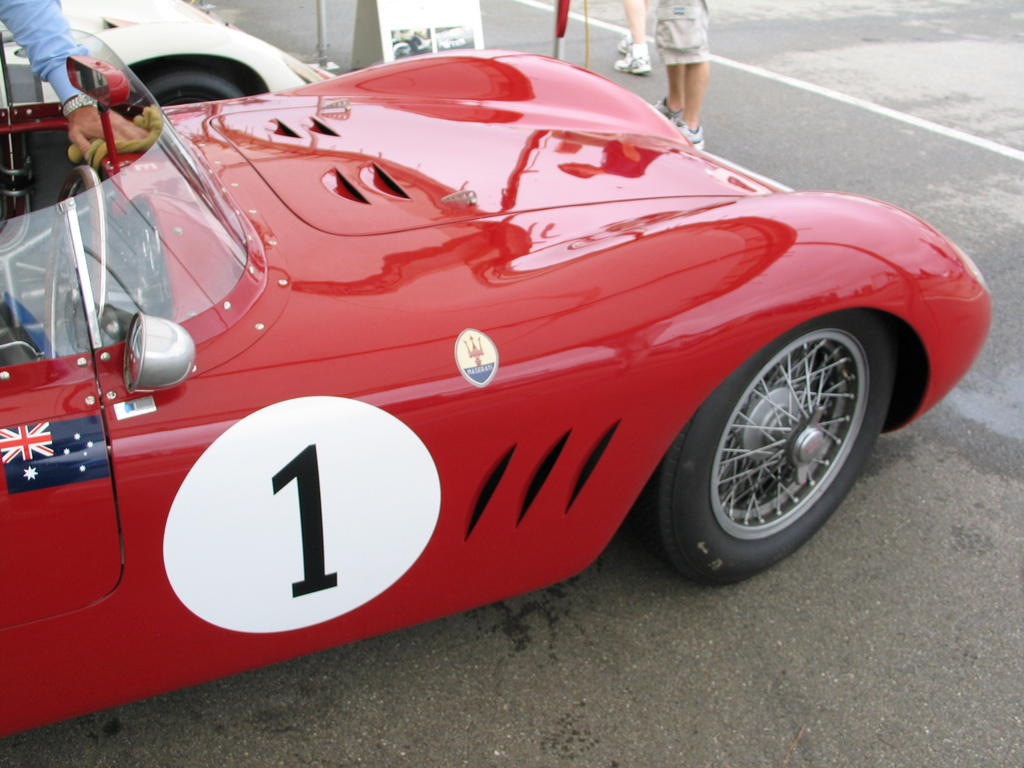Person: (0, 0, 149, 160), (653, 0, 710, 150), (613, 0, 652, 74)
